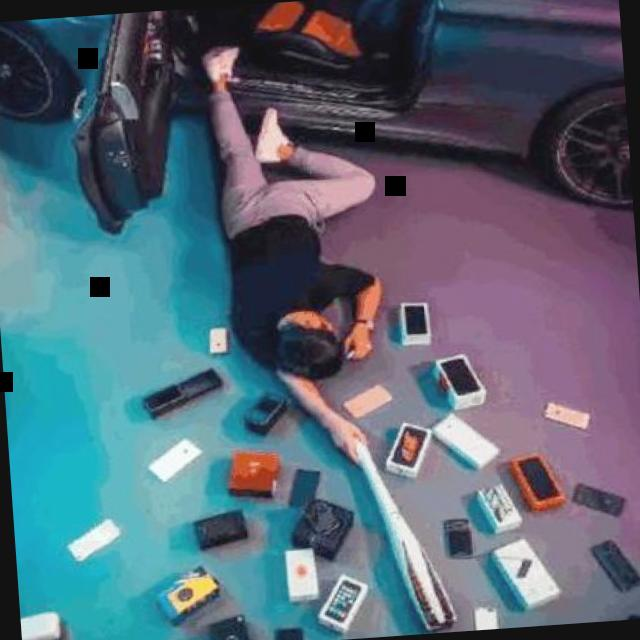Fall-Detected: (170, 21, 410, 483)
